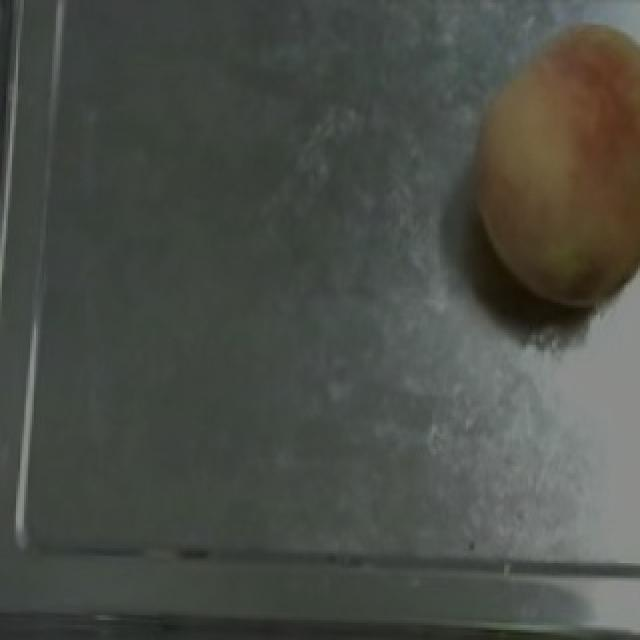Fruit: (432, 0, 640, 327)
